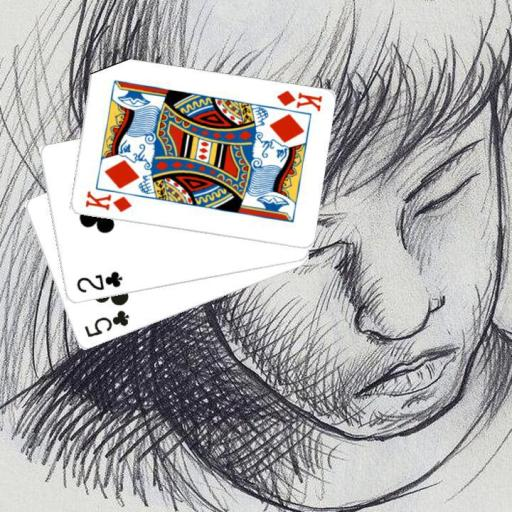2C: (73, 268, 124, 295)
5C: (81, 307, 131, 340)
KD: (81, 188, 133, 214), (273, 88, 324, 113)
